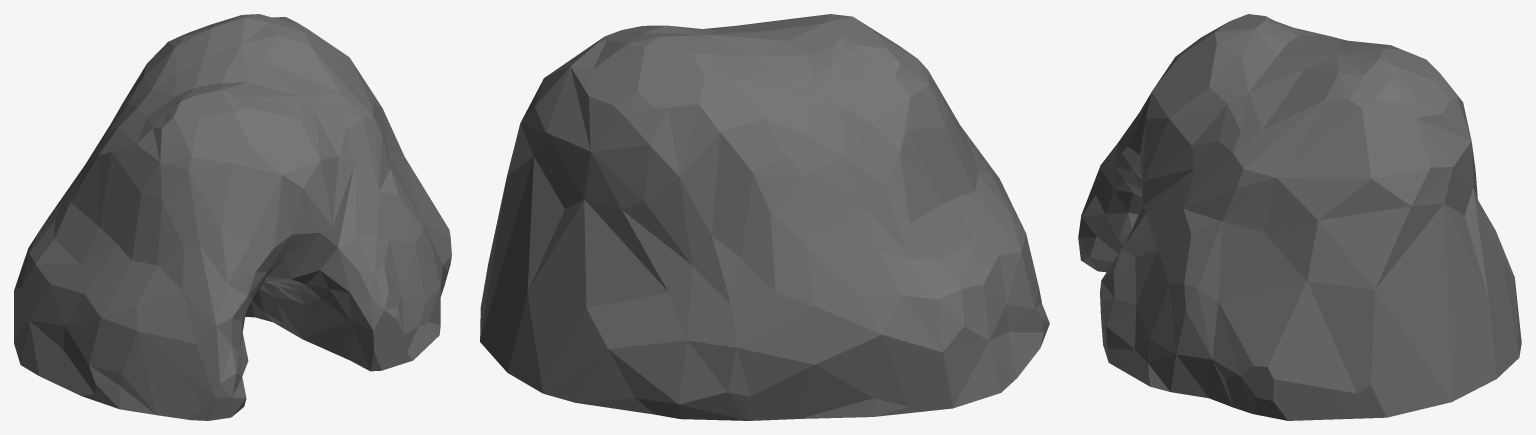
The model's file is Cave_06.fbx.
3 views of the same model, side by side, from view 1: azimuth 30°, elevation 25°; view 2: azimuth 150°, elevation 25°; view 3: azimuth 270°, elevation 25° (orthographic). The views are drawn at different scales.
Visible parts, largest first — view 1: Cave_06_LOD0; view 2: Cave_06_LOD0; view 3: Cave_06_LOD0.
Boxes of the visible parts, box(x1,y1,x2,y2) form: Cave_06_LOD0: box(14, 14, 451, 420); Cave_06_LOD0: box(480, 14, 1049, 420); Cave_06_LOD0: box(1078, 14, 1521, 420).
Size of what is drawn, in the model's own units: 12.04 by 7.31 by 10.45.
